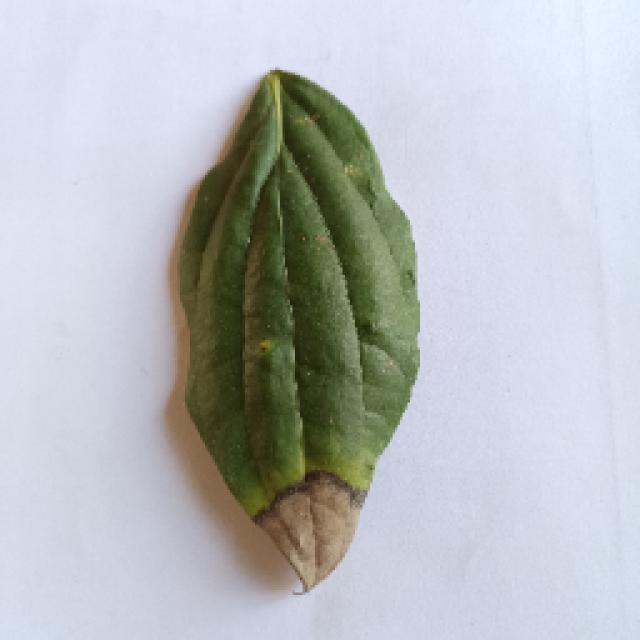footrot: (172, 67, 422, 595)
